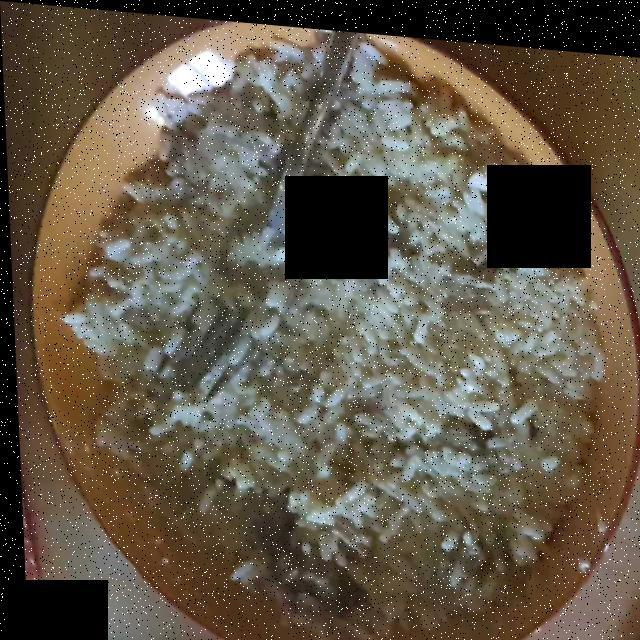pork: (233, 195, 504, 612)
rice: (62, 36, 615, 609)
